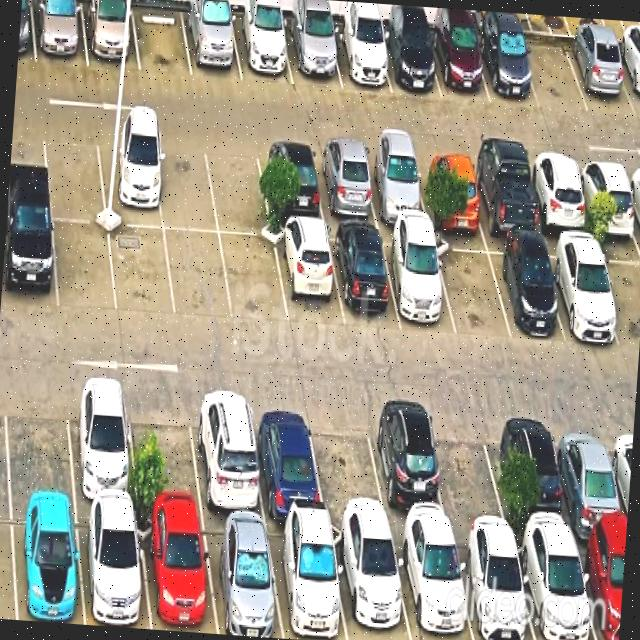empty: (430, 407, 509, 535), (308, 401, 388, 526), (127, 385, 203, 513), (4, 377, 74, 501), (433, 237, 510, 338), (204, 138, 271, 236), (153, 134, 218, 231), (109, 225, 175, 319), (164, 229, 232, 320), (42, 125, 106, 221), (220, 235, 288, 324), (53, 220, 117, 312), (519, 35, 587, 111), (597, 240, 640, 350), (132, 4, 192, 76)
occupied: (366, 405, 452, 530), (201, 516, 283, 638), (137, 511, 217, 634), (189, 390, 265, 518), (266, 521, 347, 640), (249, 395, 325, 519), (76, 505, 151, 629), (65, 379, 137, 508), (331, 524, 411, 640), (553, 414, 627, 539), (501, 410, 574, 536), (453, 532, 535, 640), (392, 531, 473, 640), (11, 503, 83, 624), (514, 535, 596, 640), (543, 238, 621, 343), (380, 231, 456, 334), (485, 239, 564, 337), (328, 227, 400, 327), (274, 224, 344, 326), (96, 130, 163, 227), (468, 154, 540, 236), (0, 211, 57, 309), (563, 37, 635, 114), (256, 142, 325, 222), (415, 151, 484, 230), (574, 537, 626, 640), (312, 144, 379, 223), (361, 147, 429, 224), (575, 158, 640, 236), (526, 156, 591, 233), (475, 29, 539, 107), (428, 27, 490, 101), (377, 27, 441, 97), (230, 13, 293, 84), (182, 8, 242, 80), (328, 24, 391, 92), (81, 1, 140, 70), (283, 20, 341, 86), (31, 0, 88, 66), (612, 43, 640, 114)
